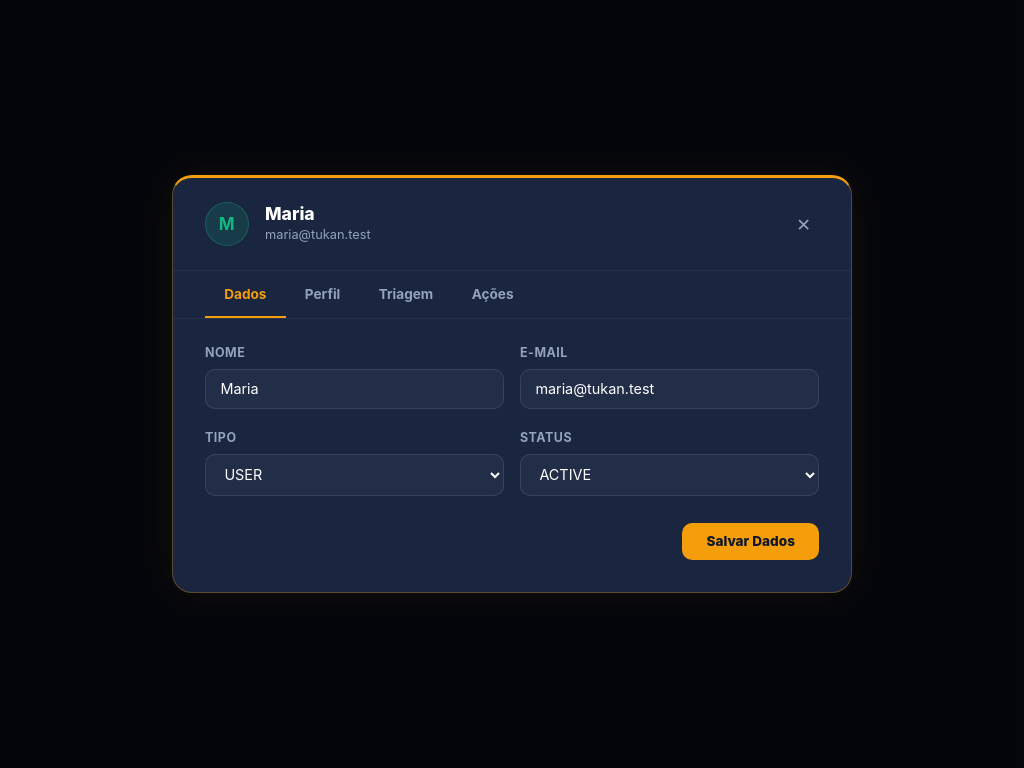
Test case: AdminUserModal — diet type in the admin triagem flow › shows the current dietType label in the read-only triagem view
The image size is (1024, 768).
Click the button with class "tab-btn" showing "Triagem". click: (406, 295)
box: [360, 271, 452, 318]
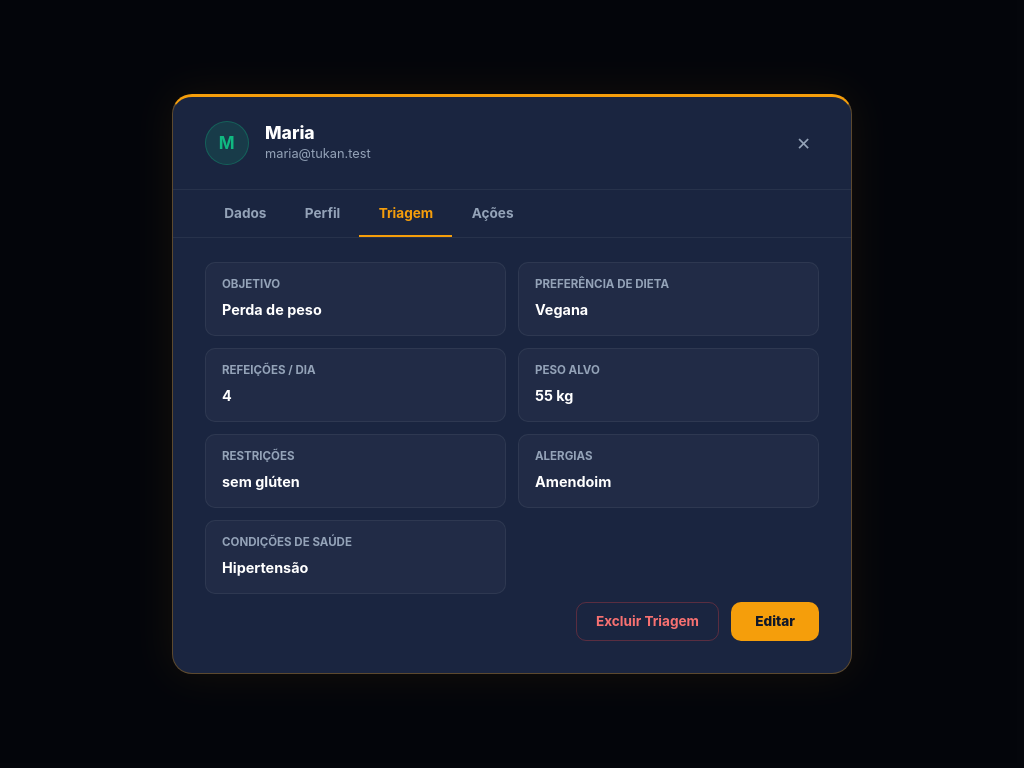
Expected: the text "VEGANA" is not shown
Now the text "Vegana" is shown, box [535, 301, 588, 318]
